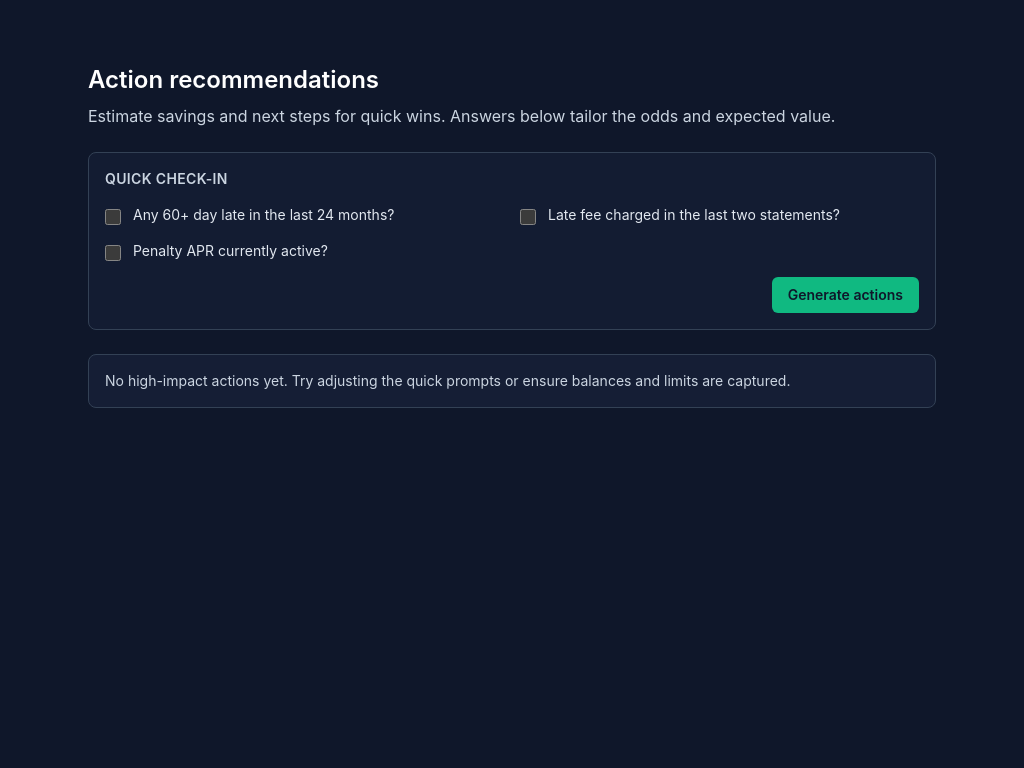
Test: ActionsRoute › submits prompts and renders action cards
This screenshot has width=1024, height=768.
Click the button "Generate actions". click: click(845, 295)
box: [772,277,919,313]
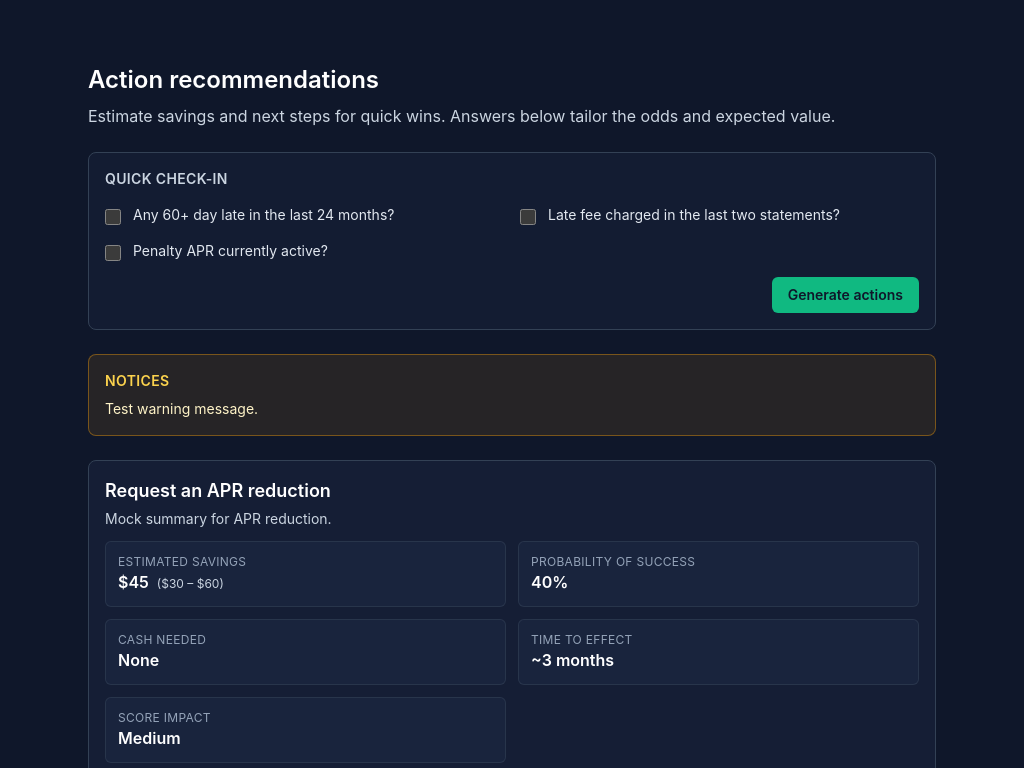
expect the text "Mock summary for APR reduction." is shown: met, box [105,510,332,527]
expect the list item "Test warning message." is shown: met, box [105,400,258,417]
